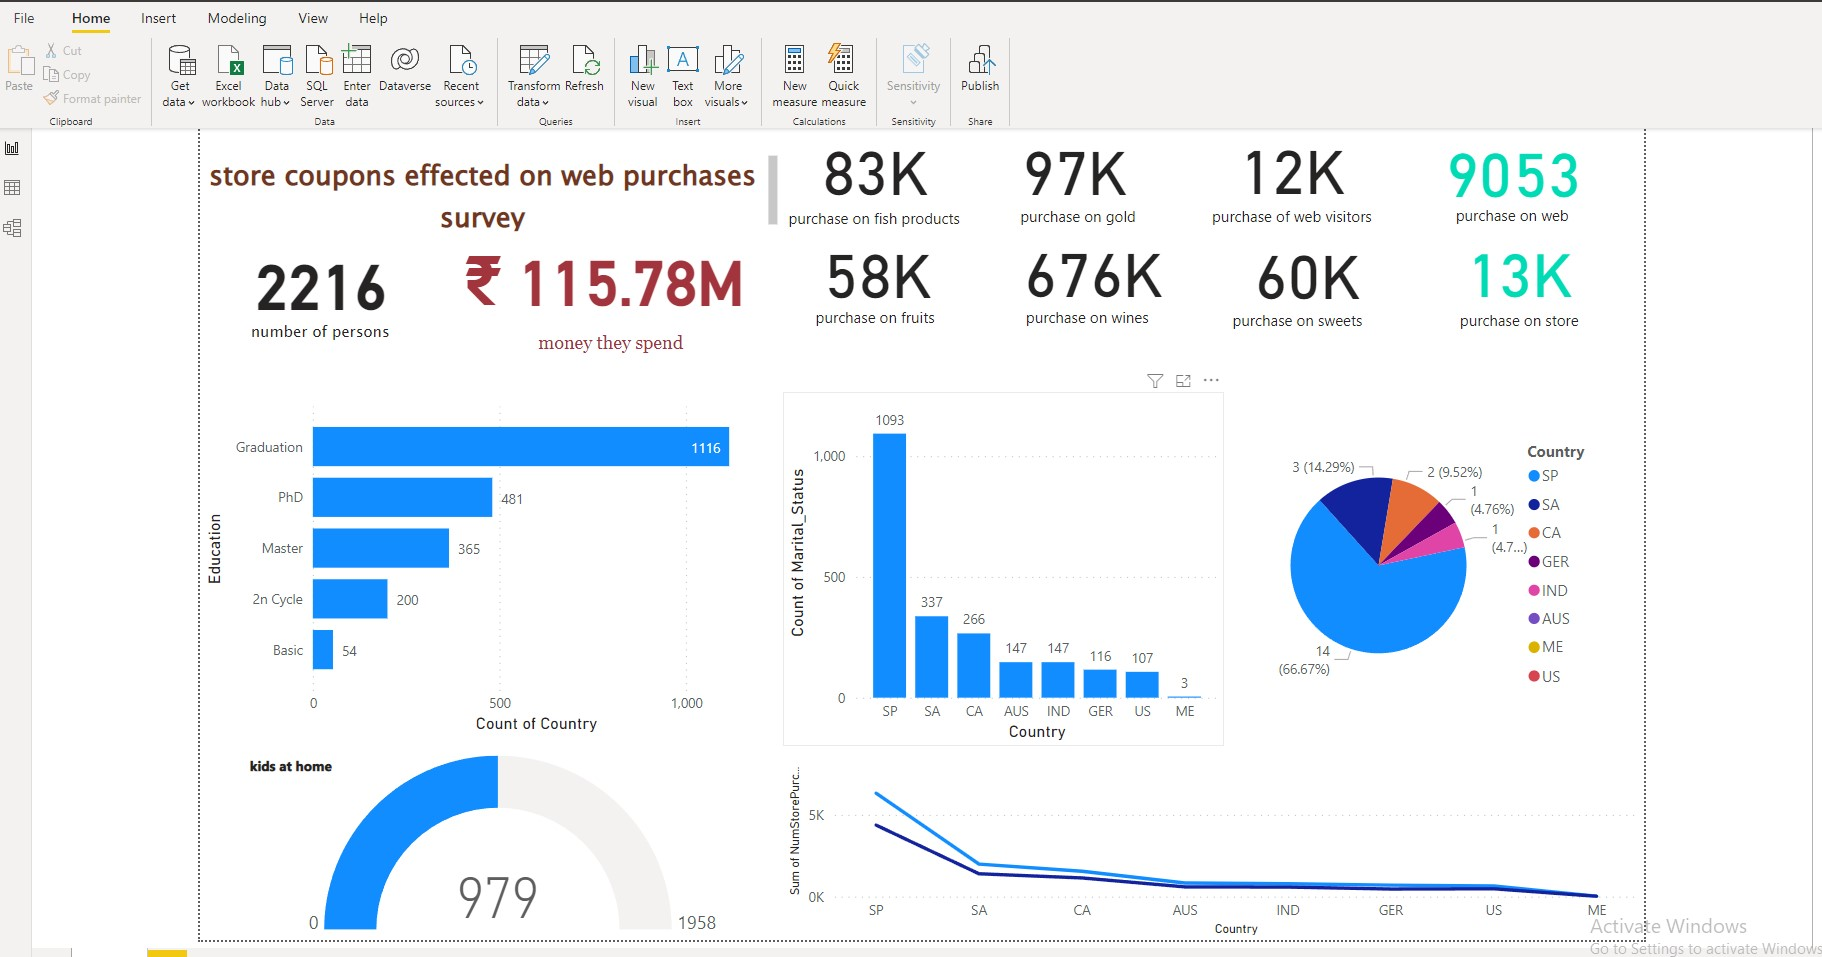

What the dashboard file says about the page in this screenshot:
{"tool":"powerbi","page":{"name":"Page 1","canvas":[1280,720],"ordinal":0},"visuals":[{"type":"card","fields":{"Values":["Sum(Table2 (2).Income)"]},"box":[226.9,64.8,263.3,132.6],"z":0},{"type":"textbox","box":[256.4,175.8,196.5,38.3],"z":1000},{"type":"card","fields":{"Values":["CountNonNull(Table2 (2).ID)"]},"box":[5.9,75.6,202.4,118.9],"z":2000},{"type":"card","fields":{"Values":["Sum(Table2 (2).MntFishProducts)"]},"box":[490.2,6.8,216.9,73.9],"z":3000},{"type":"textbox","box":[496.1,66.8,204.3,29.5],"z":4000},{"type":"card","fields":{"Values":["Sum(Table2 (2).MntFruits)"]},"box":[494.1,98.2,213,73.9],"z":5000},{"type":"card","fields":{"Values":["Sum(Table2 (2).MntGoldProds)"]},"box":[695.4,6.8,161.5,73.9],"z":6000},{"type":"card","fields":{"Values":["Sum(Table2 (2).MntSweetProducts)"]},"box":[873.4,100.2,216.9,72],"z":7000},{"type":"card","fields":{"Values":["Sum(Table2 (2).MntWines)"]},"box":[695.4,98.2,193.6,71],"z":8000},{"type":"card","fields":{"Values":["Sum(Table2 (2).NumWebPurchases)"]},"box":[1062.9,9.8,203.3,70.7],"z":9000},{"type":"card","fields":{"Values":["Sum(Table2 (2).NumWebVisitsMonth)"]},"box":[873.4,9.7,189.7,67.1],"z":10000},{"type":"textbox","box":[5.9,165,196.5,37.3],"z":11000},{"type":"card","fields":{"Values":["Sum(Table2 (2).NumStorePurchases)"]},"box":[1072.8,106,193.6,57.4],"z":12000},{"type":"textbox","box":[6,313,196,150],"z":13000},{"type":"textbox","box":[700.4,64.8,156.2,34.4],"z":14000},{"type":"textbox","box":[873.3,64.8,189.6,34.4],"z":15000},{"type":"textbox","box":[1071.7,63.9,186.6,33.4],"z":16000},{"type":"textbox","box":[516.7,154.2,167,28.5],"z":17000},{"type":"textbox","box":[704.3,154.2,169,35.4],"z":18000},{"type":"textbox","box":[873.3,157.2,199.4,26.5],"z":19000},{"type":"textbox","box":[1080.6,157.2,177.8,37.3],"z":20000},{"type":"textbox","box":[0,19.6,516.7,76.6],"z":21000},{"type":"barChart","fields":{"Y":["CountNonNull(Table2 (2).Country)"],"Category":["Table2 (2).Education"]},"box":[0,233.8,516.7,307.5],"z":22000},{"type":"columnChart","fields":{"Category":["Table2 (2).Country"],"Y":["CountNonNull(Table2 (2).Marital_Status)"]},"box":[516.7,233.8,391,314.4],"z":23000},{"type":"pieChart","fields":{"Y":["Sum(Table2 (2).Complain)"],"Category":["Table2 (2).Country"]},"box":[907.7,227.9,342.8,320.2],"z":24000},{"type":"gauge","fields":{"Y":["Sum(Table2 (2).Kidhome)"]},"box":[18.7,551.1,516.7,169],"z":25000},{"type":"textbox","box":[18.7,551.1,123.8,30.5],"z":26000},{"type":"lineChart","fields":{"Category":["Table2 (2).Country"],"Y":["Sum(Table2 (2).NumStorePurchases)","Sum(Table2 (2).NumWebPurchases)"]},"box":[516.7,551.1,763.3,169],"z":27000}]}

Visuals, with their boxes on the page's 1280x720 design canvas (x1, y1, x2, y2). These are canvas units, not pixel positions in the 1822x957 screenshot, which may show the page scaled, cropped or inside an application window:
card - Sum(Table2 (2).Income): <region>227, 65, 490, 197</region>
textbox: <region>256, 176, 453, 214</region>
card - CountNonNull(Table2 (2).ID): <region>6, 76, 208, 194</region>
card - Sum(Table2 (2).MntFishProducts): <region>490, 7, 707, 81</region>
textbox: <region>496, 67, 700, 96</region>
card - Sum(Table2 (2).MntFruits): <region>494, 98, 707, 172</region>
card - Sum(Table2 (2).MntGoldProds): <region>695, 7, 857, 81</region>
card - Sum(Table2 (2).MntSweetProducts): <region>873, 100, 1090, 172</region>
card - Sum(Table2 (2).MntWines): <region>695, 98, 889, 169</region>
card - Sum(Table2 (2).NumWebPurchases): <region>1063, 10, 1266, 80</region>
card - Sum(Table2 (2).NumWebVisitsMonth): <region>873, 10, 1063, 77</region>
textbox: <region>6, 165, 202, 202</region>
card - Sum(Table2 (2).NumStorePurchases): <region>1073, 106, 1266, 163</region>
textbox: <region>6, 313, 202, 463</region>
textbox: <region>700, 65, 857, 99</region>
textbox: <region>873, 65, 1063, 99</region>
textbox: <region>1072, 64, 1258, 97</region>
textbox: <region>517, 154, 684, 183</region>
textbox: <region>704, 154, 873, 190</region>
textbox: <region>873, 157, 1073, 184</region>
textbox: <region>1081, 157, 1258, 194</region>
textbox: <region>0, 20, 517, 96</region>
barChart - CountNonNull(Table2 (2).Country) x Table2 (2).Education: <region>0, 234, 517, 541</region>
columnChart - Table2 (2).Country x CountNonNull(Table2 (2).Marital_Status): <region>517, 234, 908, 548</region>
pieChart - Sum(Table2 (2).Complain) x Table2 (2).Country: <region>908, 228, 1250, 548</region>
gauge - Sum(Table2 (2).Kidhome): <region>19, 551, 535, 720</region>
textbox: <region>19, 551, 142, 582</region>
lineChart - Table2 (2).Country x Sum(Table2 (2).NumStorePurchases): <region>517, 551, 1280, 720</region>
